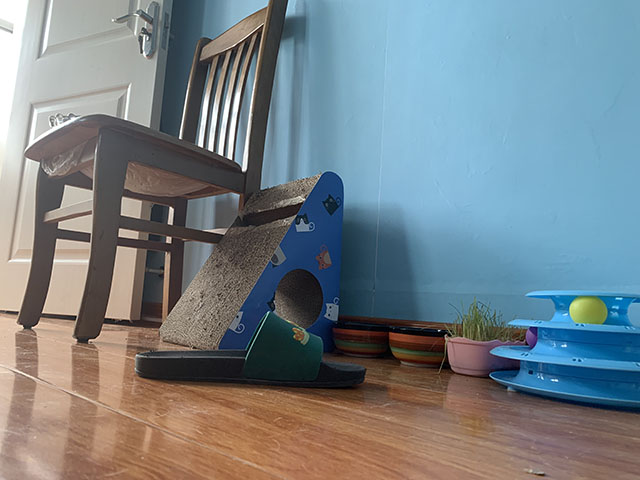slippers: (134, 310, 367, 388)
stool: (15, 1, 289, 345)
